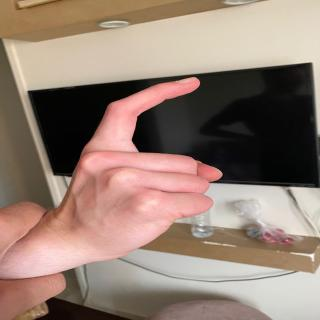RAA: (60, 70, 233, 272)
